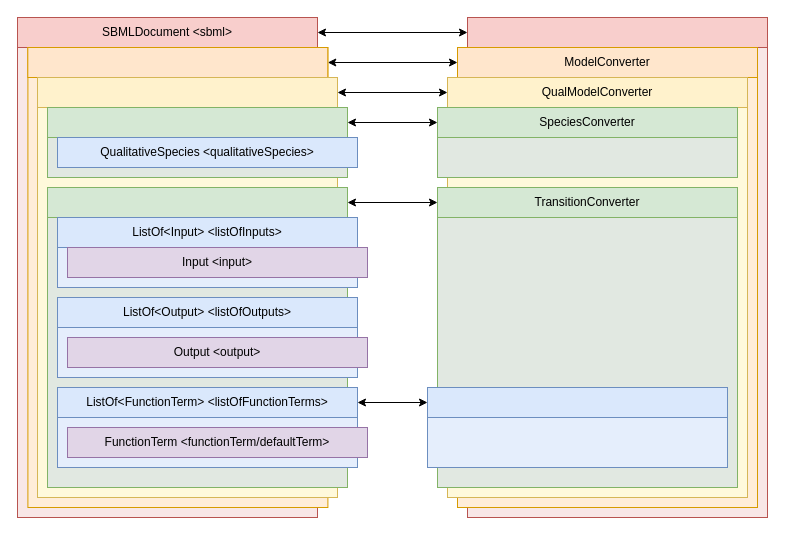
This 785x535 diagram has some shape labels left out. Each missing label, with the centre of its shape:
"FunctionTermConverter" belongs at pixel 577 402.
"ListOf<QualitativeSpecies> <listOfQualitativeSpecies>" belongs at pixel 197 122.
"ListOf<Transition> <listOfTransitions>" belongs at pixel 197 202.
"Model <model>" belongs at pixel 177 62.
"QualModelPlugin <qual:>" belongs at pixel 187 92.
"SBMLConverter" belongs at pixel 617 32.
